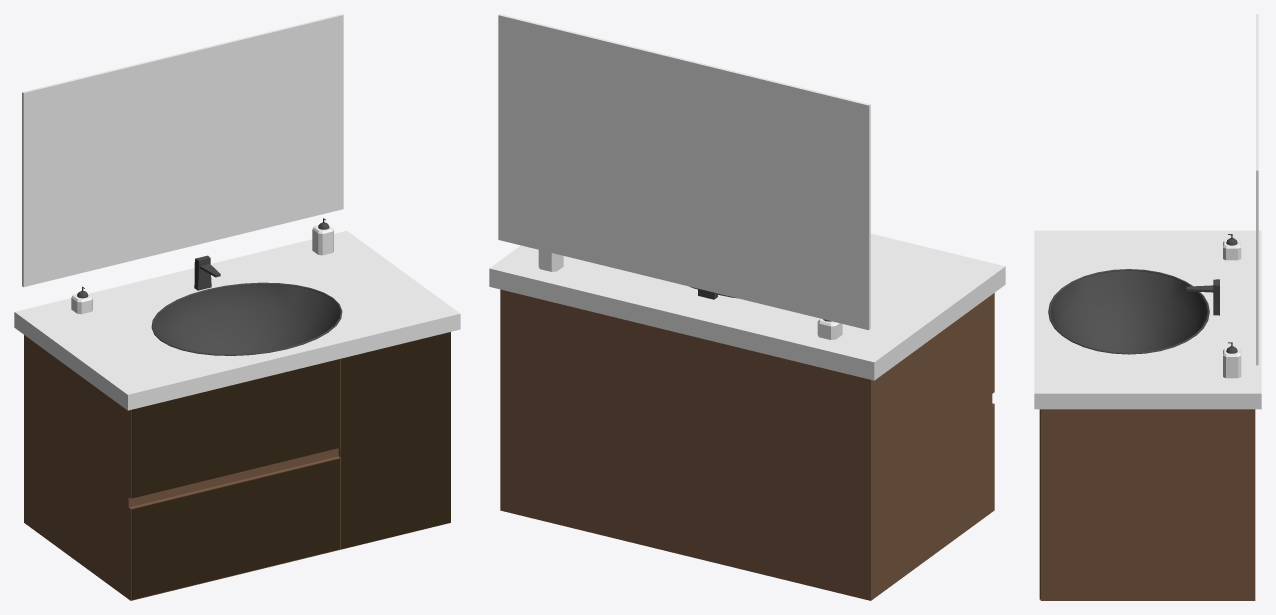
File: Pila.fbx
3 views of the same model, side by side, from view 1: azimuth 30°, elevation 25°; view 2: azimuth 150°, elevation 25°; view 3: azimuth 270°, elevation 25° (orthographic). The views are drawn at different scales.
Visible parts, largest first — view 1: Pila; view 2: Pila; view 3: Pila.
Boxes of the visible parts, left/top/right/bottom form: Pila: left=14, top=14, right=460, bottom=600; Pila: left=489, top=14, right=1005, bottom=600; Pila: left=1034, top=14, right=1261, bottom=600.
Bounding box in the file's own units: 132 × 163 × 78.02.
